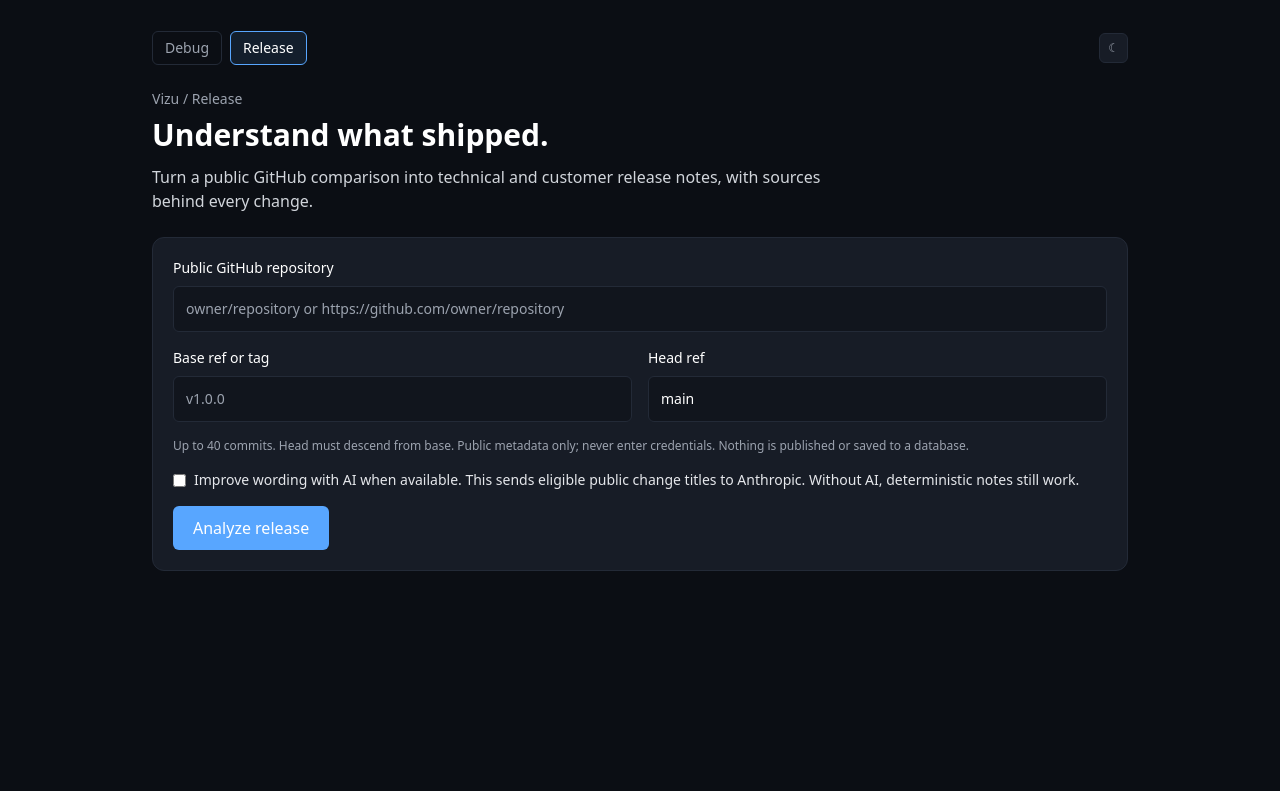
Test case: Release interface › copies the selected audience and handles clipboard failure
The width and height of the screenshot is (1280, 791).
In the field labelled "Public GitHub repository": (640, 309) 173,286 -> 1107,332, type "example/project"
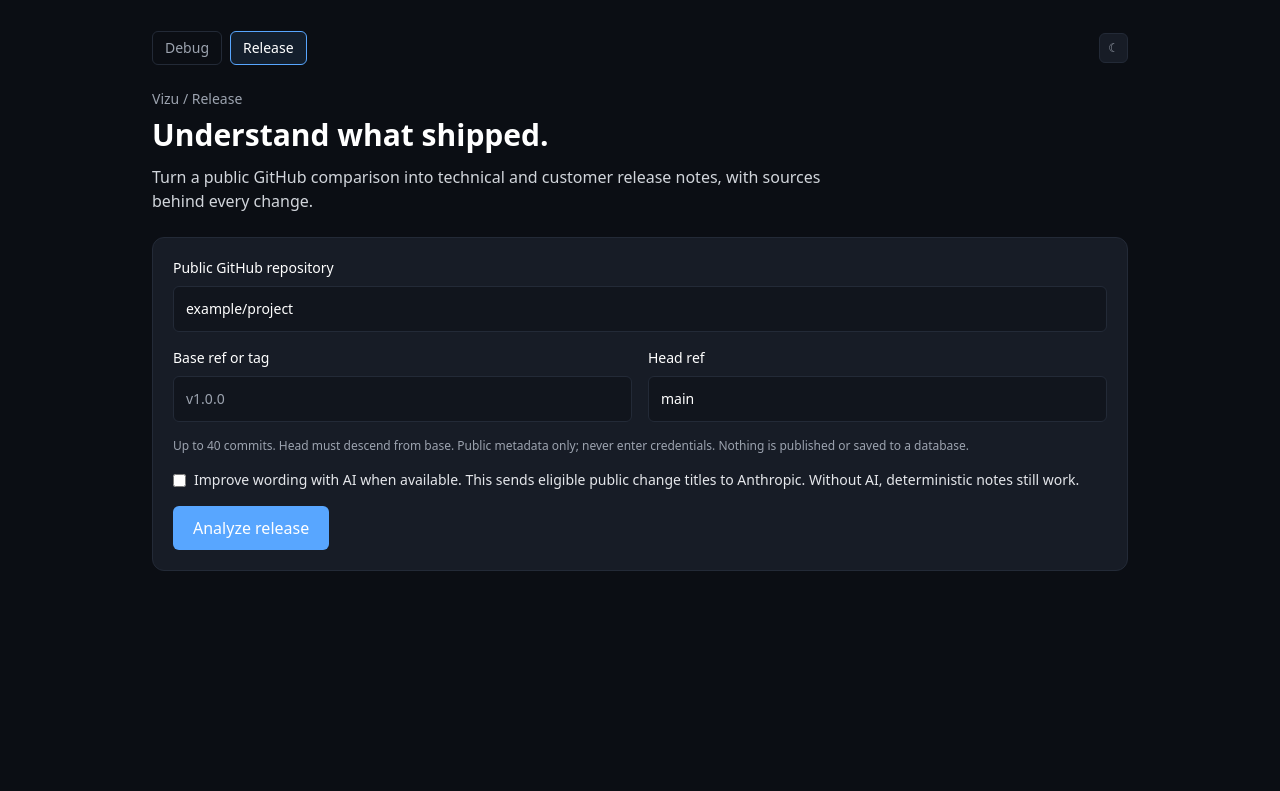
In the field labelled "Base ref or tag": (402, 399) 173,376 -> 632,422, type "v1"
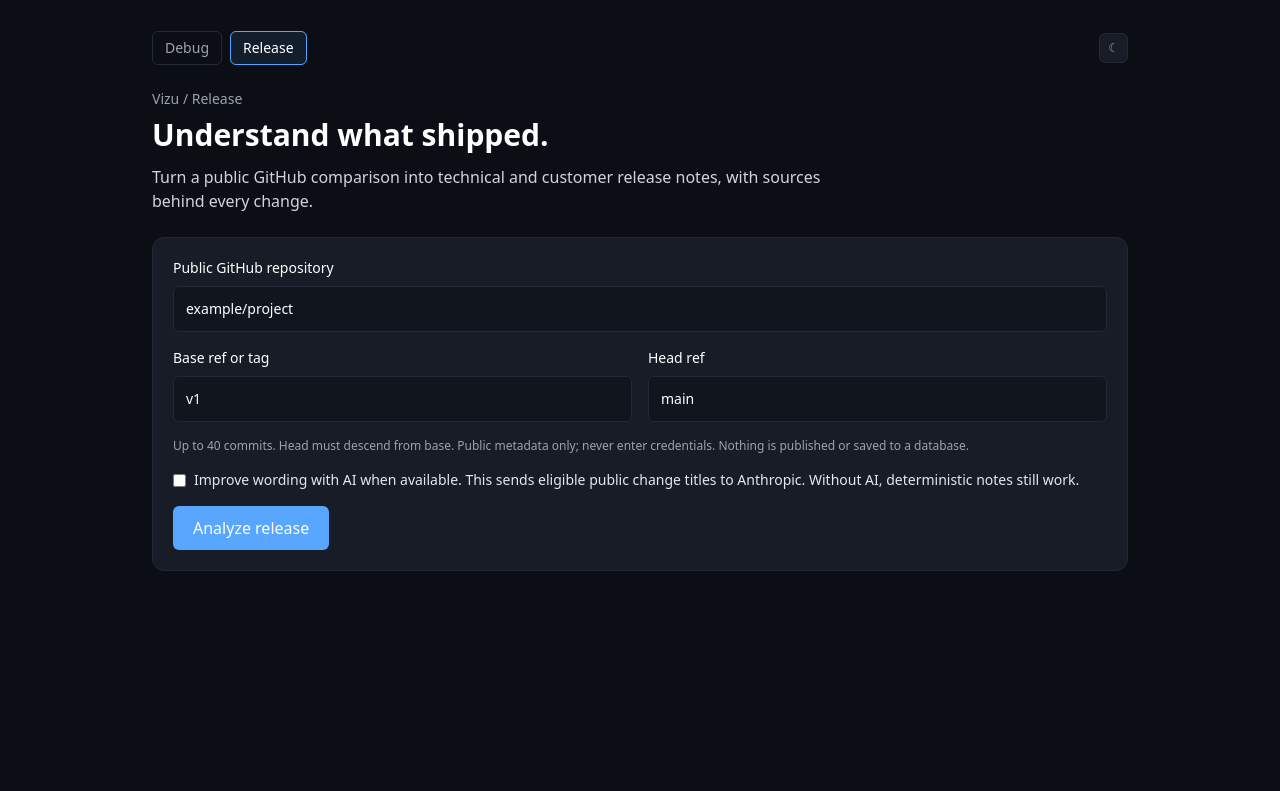
Click the button "Analyze release": (251, 528) 173,506 -> 329,550
(page scrolled)
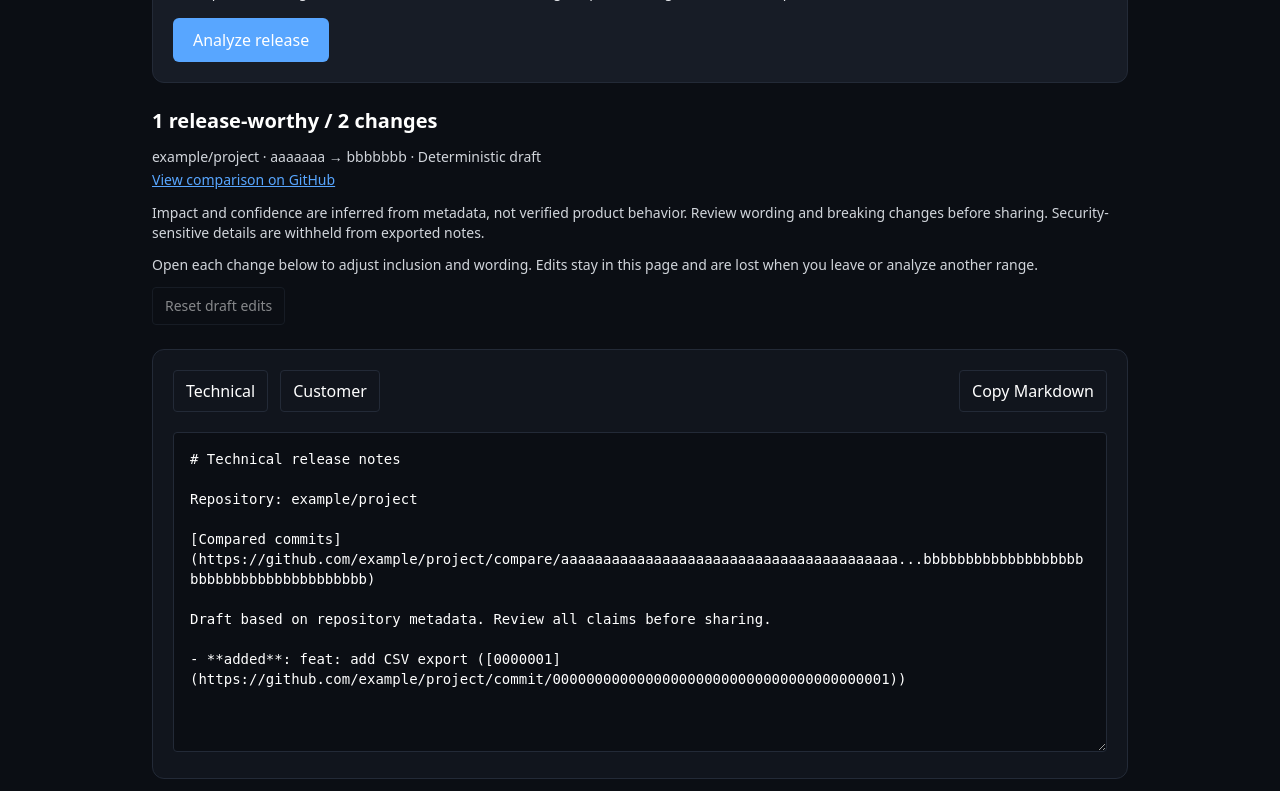
Check: the heading "1 release-worthy / 2 changes" is shown, box 152,107 -> 438,134
Click the button "Customer": (330, 391) 280,370 -> 380,412
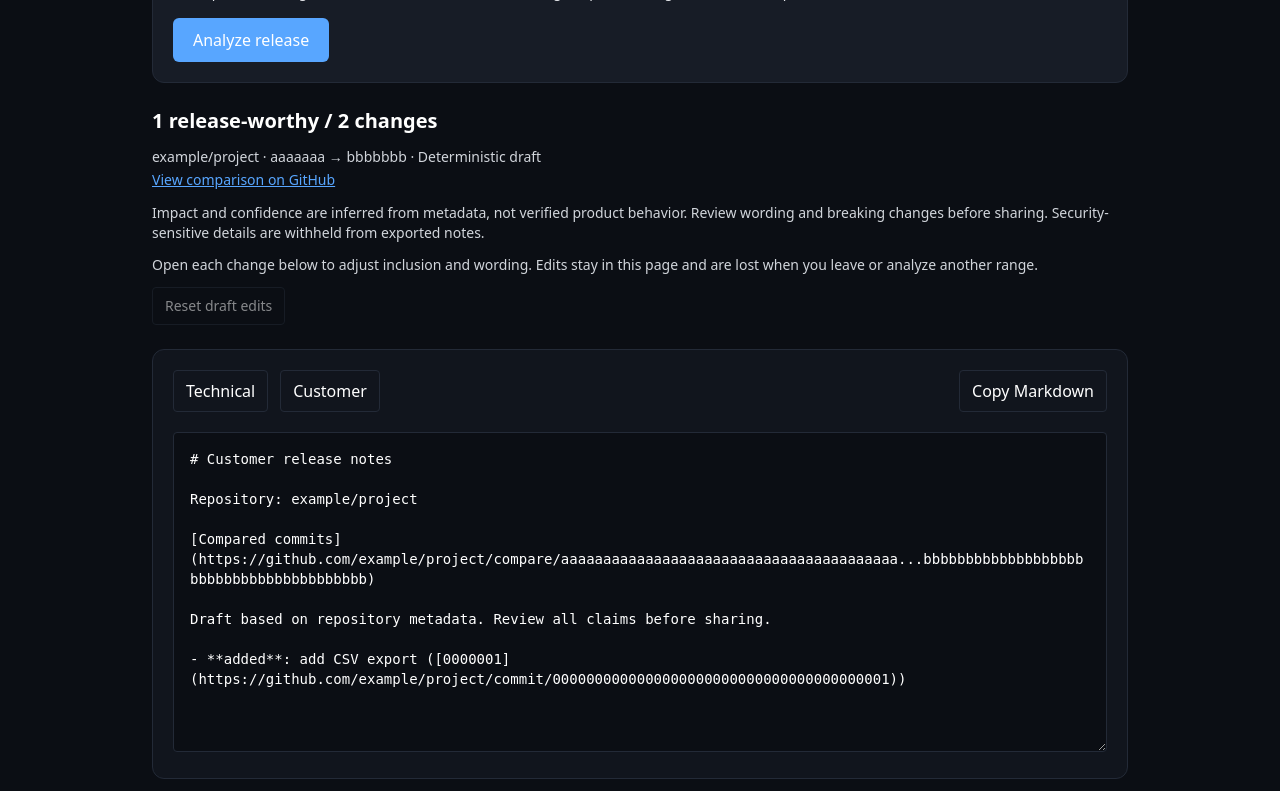
Click the button "Copy Markdown": (1033, 391) 959,370 -> 1107,412
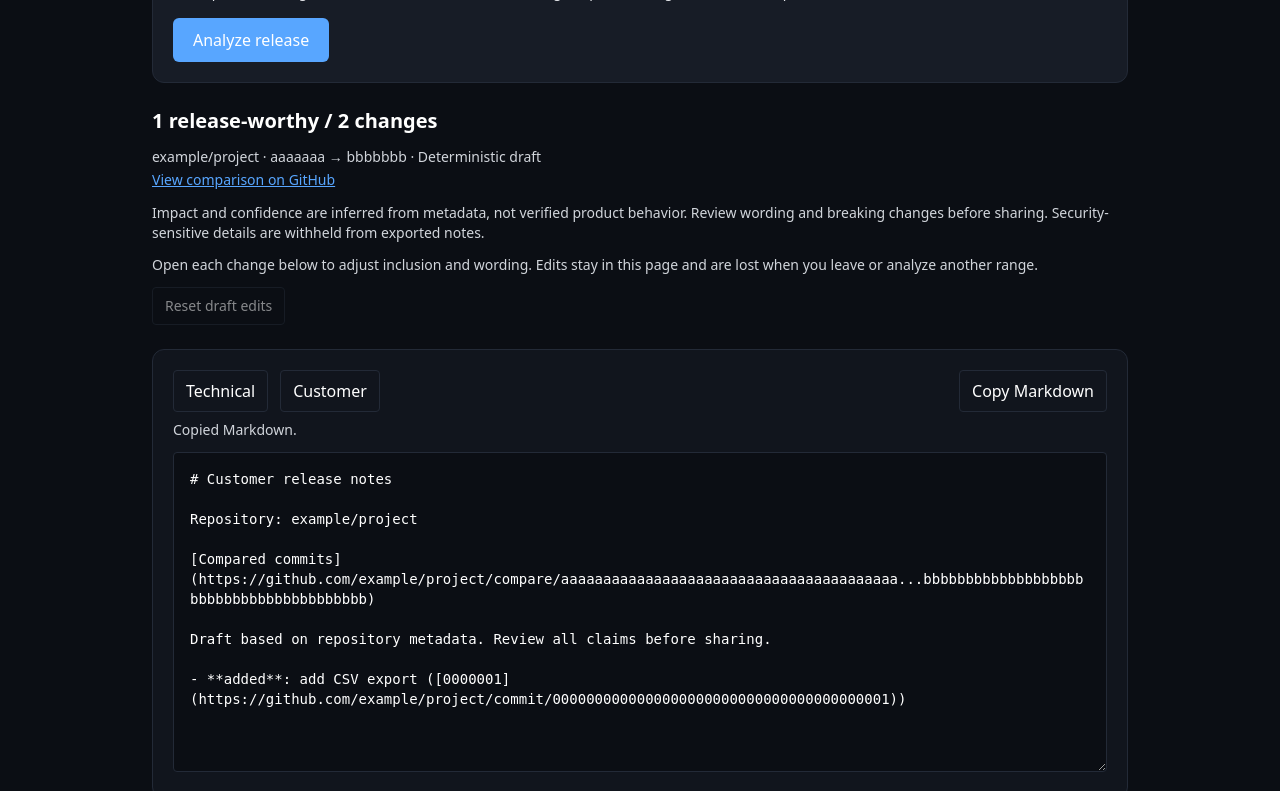
Check: the text "Copied Markdown." is shown, box 173,420 -> 297,439
Click the button "Copy Markdown": (1033, 391) 959,370 -> 1107,412
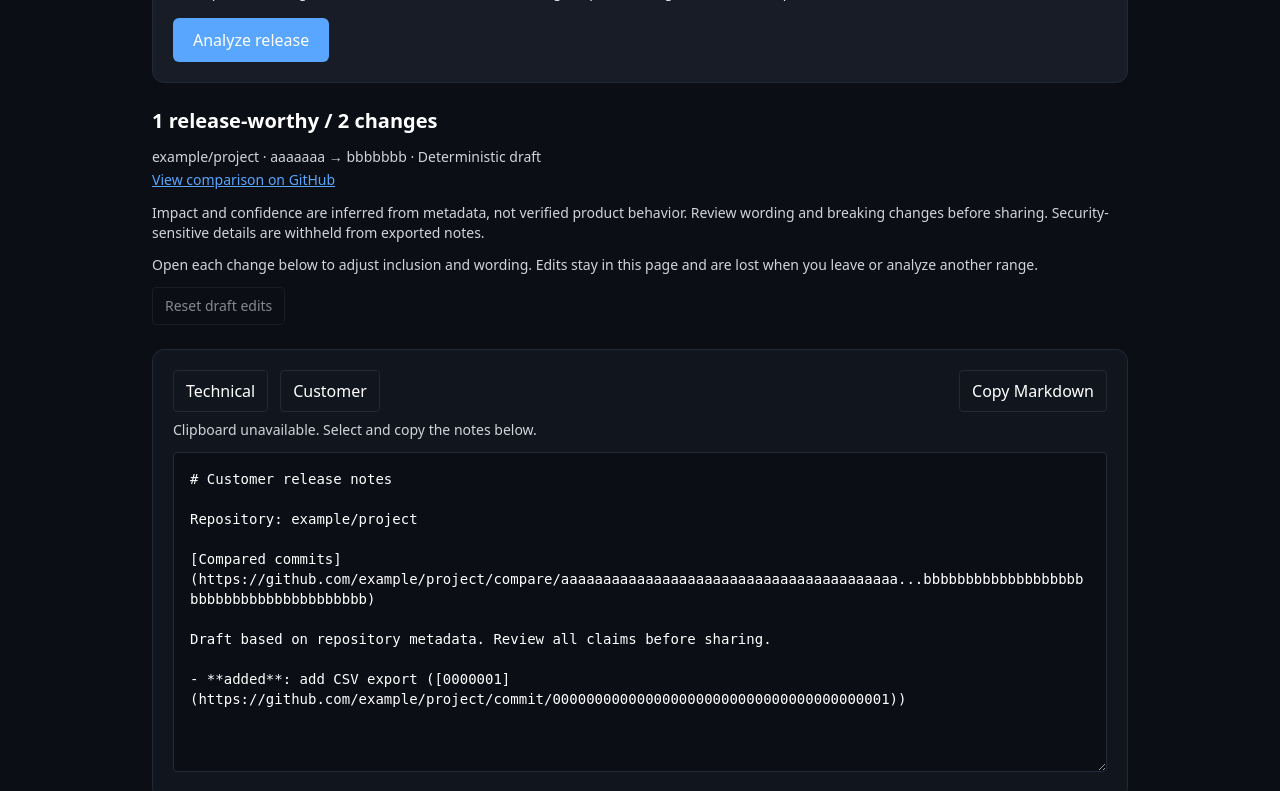
Check: the text "Clipboard unavailable. Select and copy the notes below." is shown, box 173,420 -> 537,439
